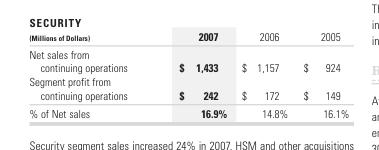table: (28, 29, 348, 119)
table column: (28, 29, 152, 119), (152, 29, 233, 119), (233, 29, 294, 119), (294, 29, 348, 119)
table column header: (28, 29, 348, 44)
table row: (28, 44, 348, 74), (28, 74, 348, 103), (28, 103, 348, 119), (28, 29, 348, 44)
